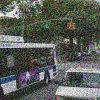buses: (0, 39, 58, 100)
